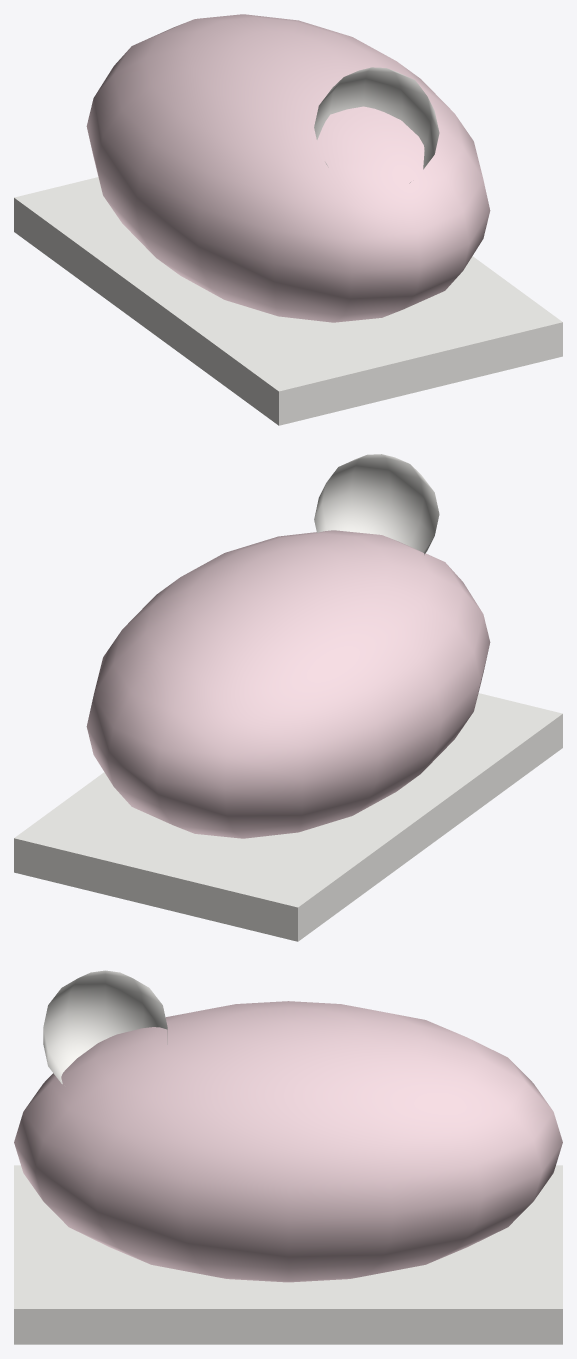
Rendered from cozy_slipper.glb.
3 views of the same model, one above another, from view 1: azimuth 30°, elevation 25°; view 2: azimuth 150°, elevation 25°; view 3: azimuth 270°, elevation 25° (orthographic). The views are drawn at different scales.
Visible parts, largest first — view 1: Cozy Slipper; view 2: Cozy Slipper; view 3: Cozy Slipper.
Boxes of the visible parts, x1,y1,x2,y2 form: Cozy Slipper: (14, 14, 562, 425); Cozy Slipper: (14, 454, 562, 941); Cozy Slipper: (14, 970, 562, 1344).
Size of the model in its own units: 0.28 by 0.25 by 0.42.
